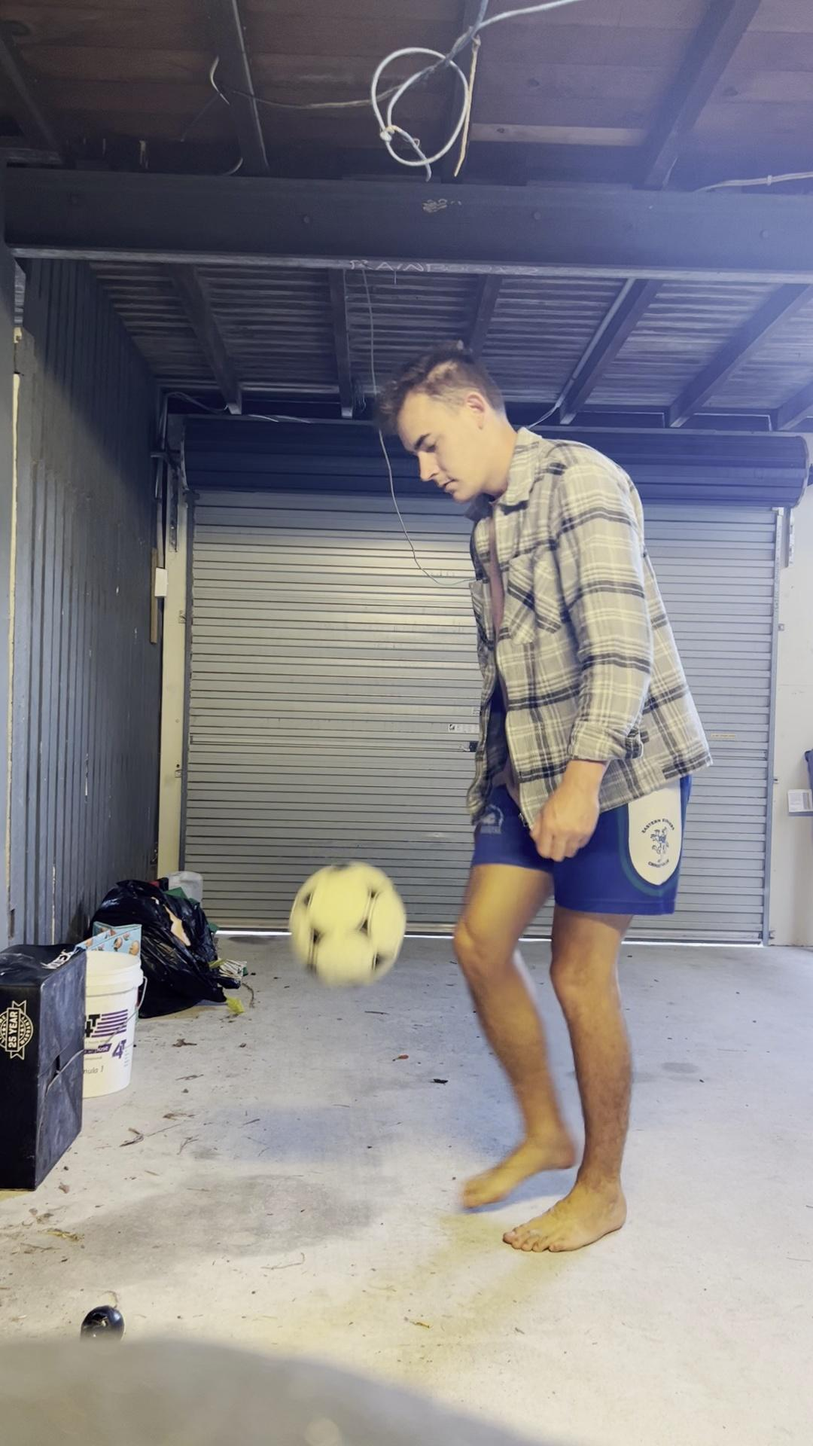ball: (288, 861, 402, 990)
foot: (499, 1167, 627, 1258), (455, 1119, 575, 1210)
person: (374, 349, 714, 1252)
